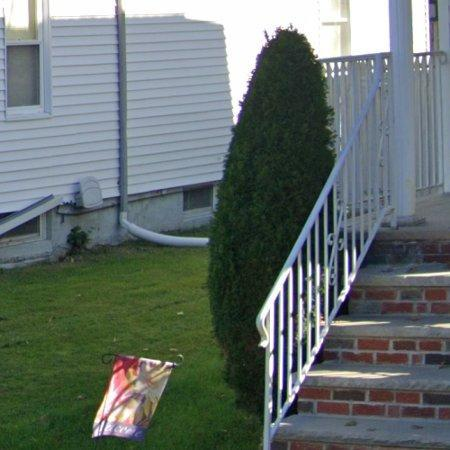stairs: (273, 226, 450, 450)
